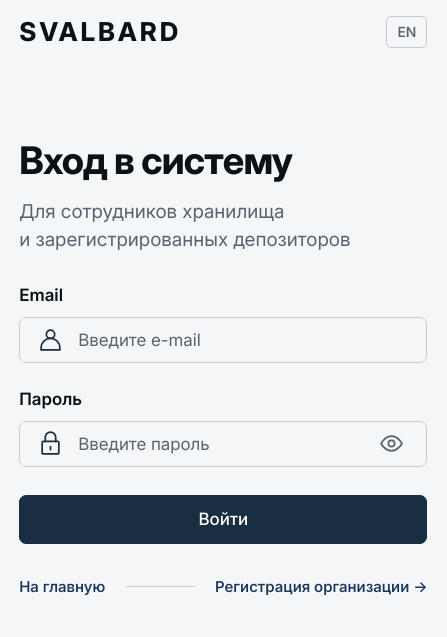
Test case: 401 preserves login values and renders an accessible alert
Step 1. Type "user@example.org" into the field labelled "Email" → (243, 340), box [78, 328, 408, 352]
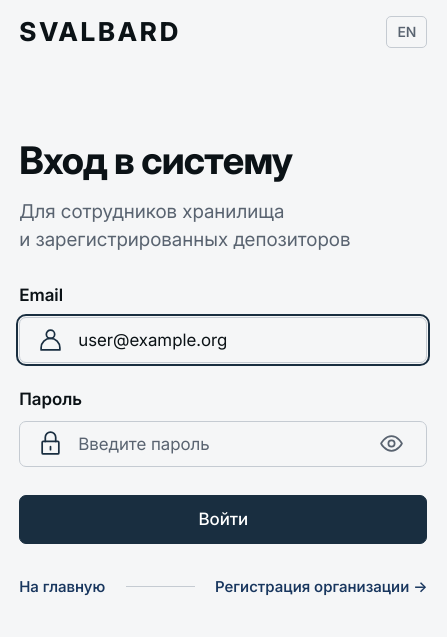
Step 2. Type "incorrect" into the password field labelled "Пароль" → (219, 444), box [78, 432, 360, 456]
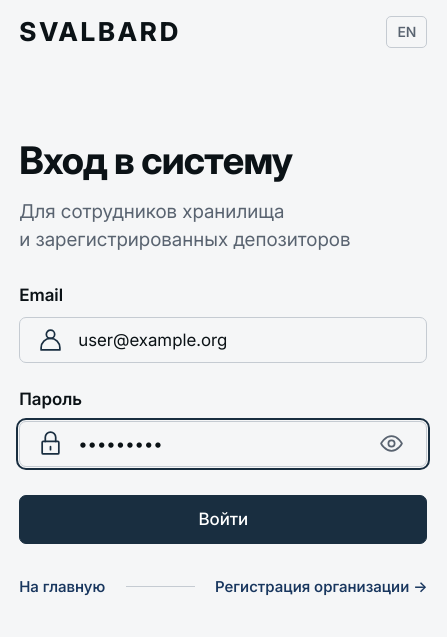
Step 3. Click the button "Войти" → (223, 519), box [19, 495, 428, 544]
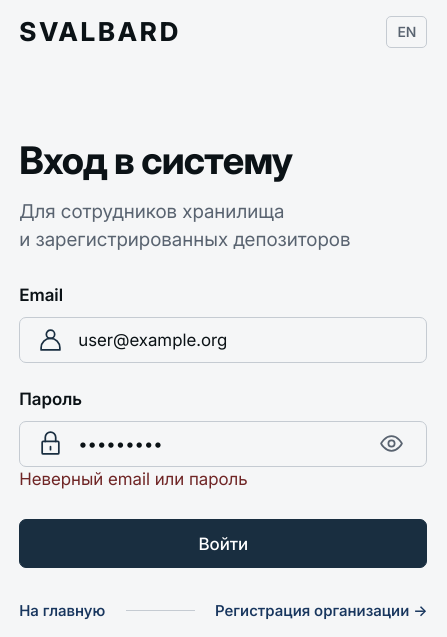
Check: the message reads "Неверный email или пароль", box [19, 469, 248, 489]
